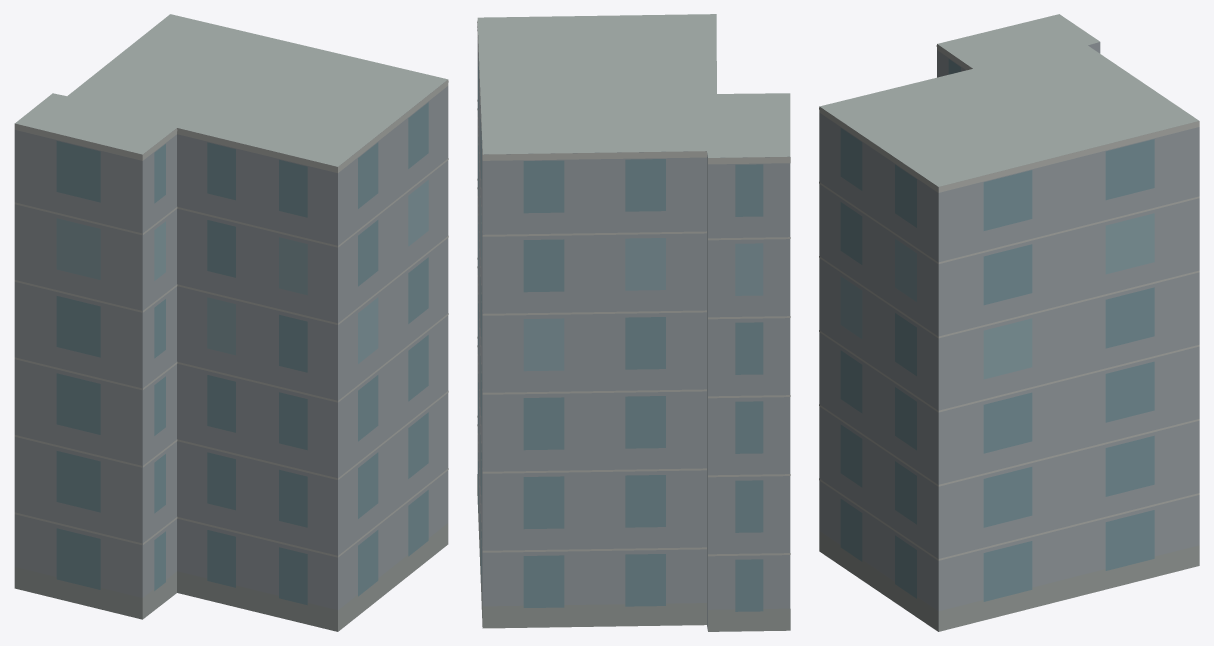
The model's file is survey-upis-32733418.glb.
The picture shows the model from 3 angles, left to right: view 1: azimuth 30°, elevation 25°; view 2: azimuth 150°, elevation 25°; view 3: azimuth 270°, elevation 25°; orthographic projection. The views are drawn at different scales.
Visible parts, largest first — view 1: survey-upis-32733418.tmp; view 2: survey-upis-32733418.tmp; view 3: survey-upis-32733418.tmp.
Boxes of the visible parts, x1=… form: survey-upis-32733418.tmp: x1=14, y1=14, x2=448, y2=631; survey-upis-32733418.tmp: x1=477, y1=14, x2=790, y2=631; survey-upis-32733418.tmp: x1=819, y1=14, x2=1199, y2=631.
Bounding box in the file's own units: 14.94 × 17.9 × 13.88.
